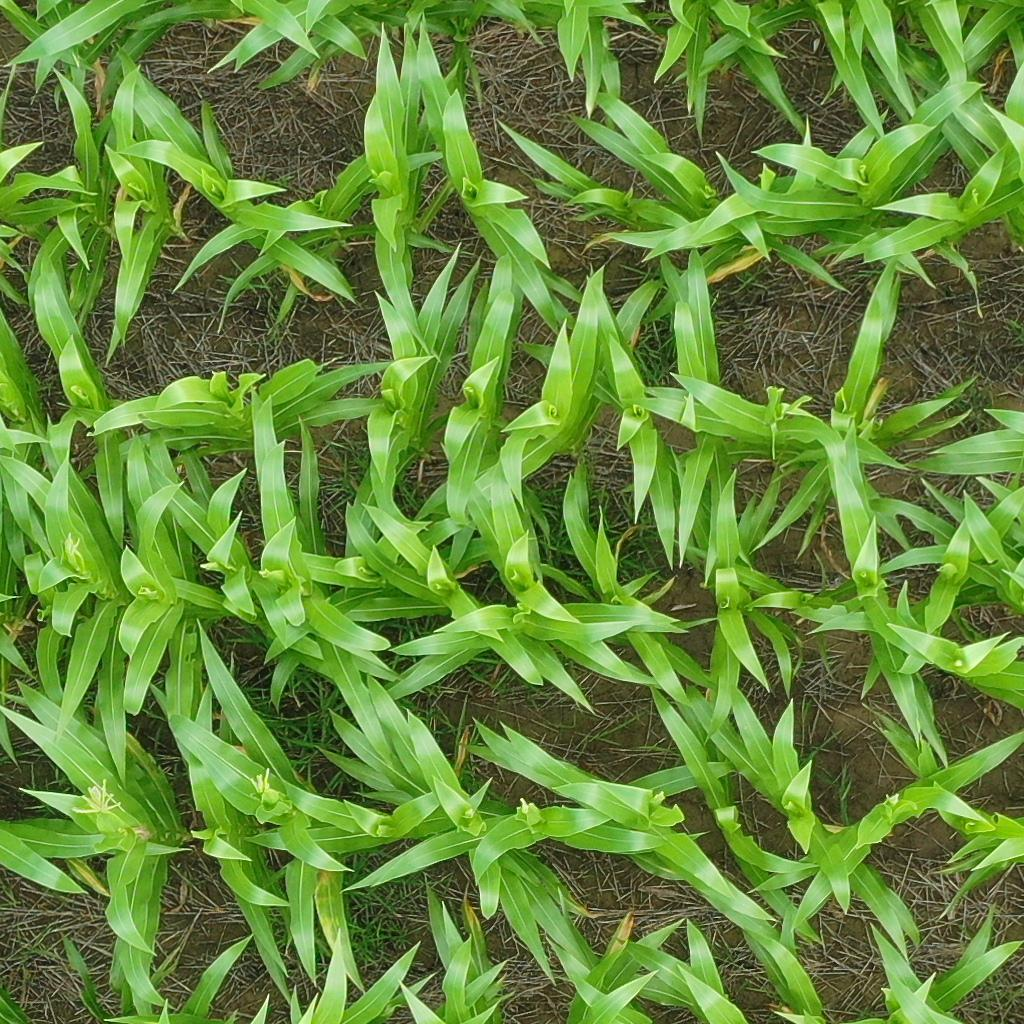Tassel: (71, 775, 124, 822), (58, 530, 84, 570), (248, 767, 271, 795), (517, 797, 537, 827), (883, 786, 903, 814), (647, 785, 665, 812), (449, 806, 478, 821), (199, 558, 218, 573)
